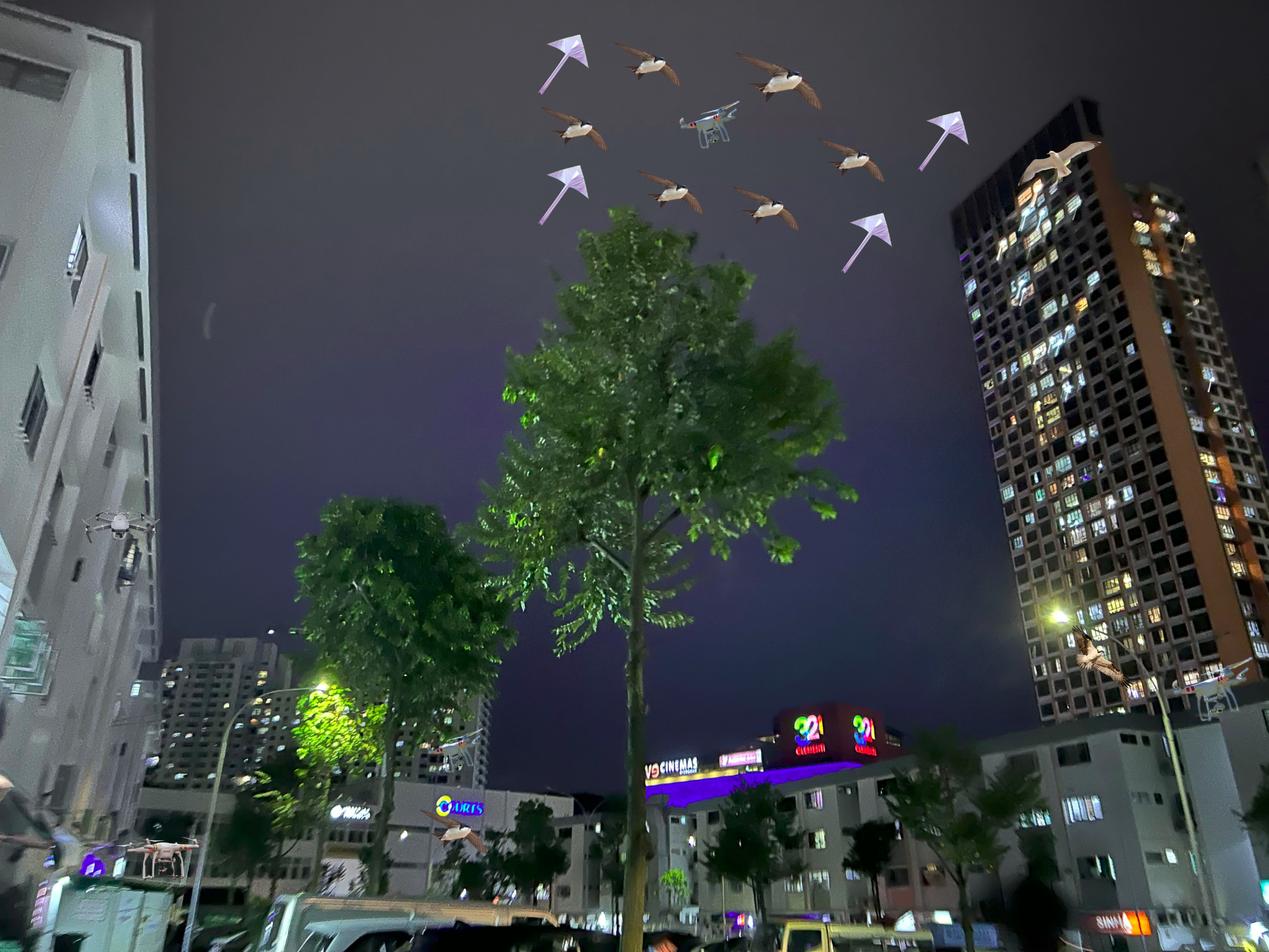drone_other: (1166, 654, 1260, 722), (118, 831, 200, 882), (674, 95, 744, 153), (84, 502, 168, 549), (428, 726, 487, 774)
